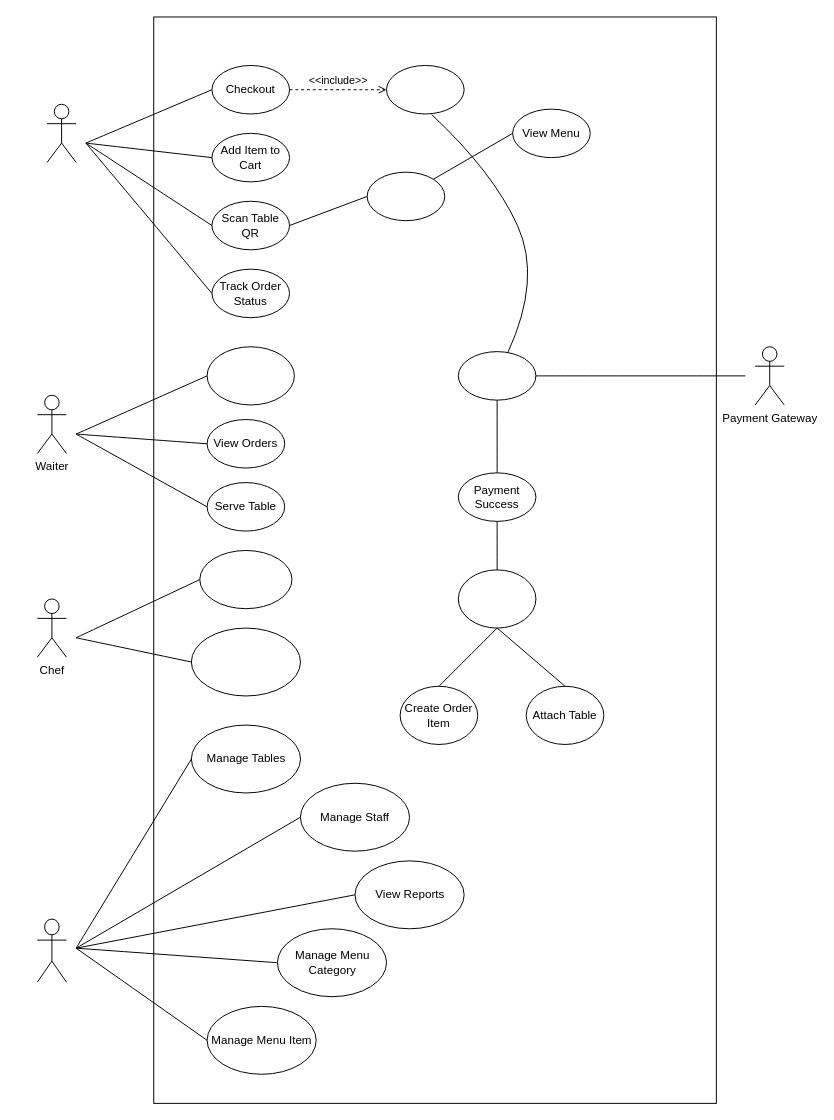
Image size: 834x1120. Some labels were removed from this diagram. Here are the shapes that lost their labels. From the top down, the centre of each, then its label:
the point at 425,89: Make Payment
the point at 61,132: Customer
the point at 405,196: Identify Table
the point at 250,375: Update Order Status
the point at 496,375: Payment Process
the point at 245,579: View Pending Orders
the point at 496,598: Create Order
the point at 245,661: Update Cooking Status
the point at 51,950: Tenant Admin
